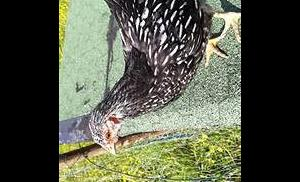hen: (59, 0, 240, 155)
